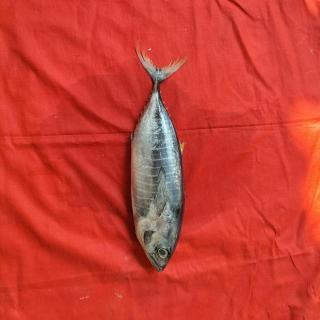Ikan: (109, 38, 197, 284)
